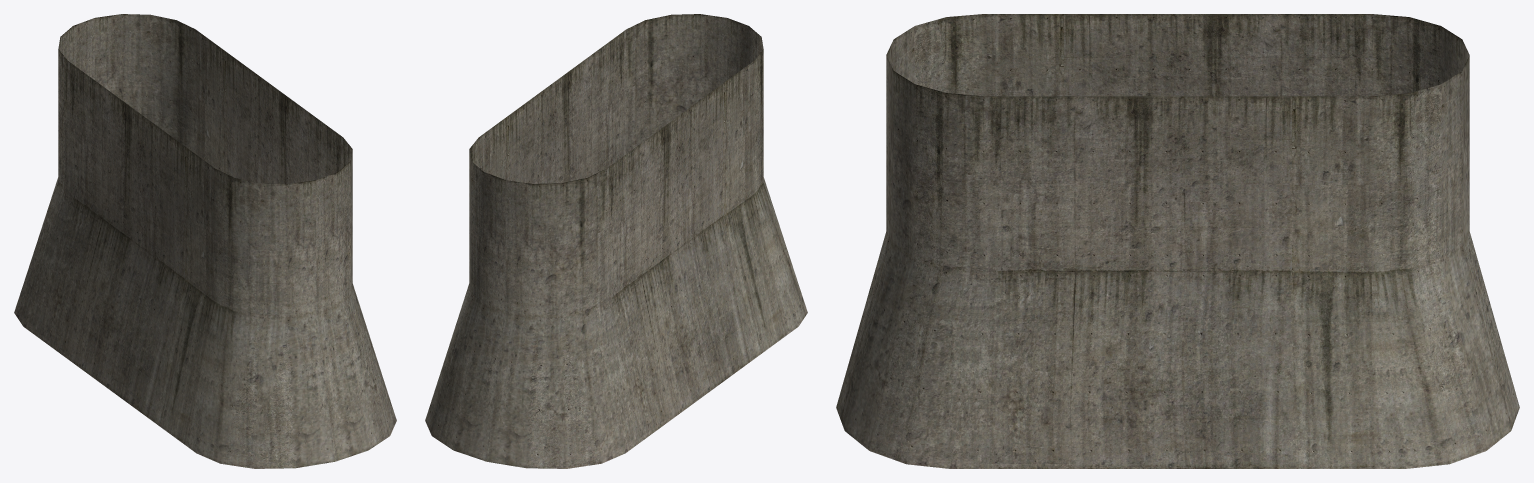
File: concrete_pillar_bottom.dae
The picture shows the model from 3 angles, left to right: view 1: azimuth 30°, elevation 25°; view 2: azimuth 150°, elevation 25°; view 3: azimuth 270°, elevation 25°; orthographic projection. The views are drawn at different scales.
Visible parts, largest first — view 1: polySurface128; view 2: polySurface128; view 3: polySurface128.
Part boxes in pixels (x1,y1,x2,y2): polySurface128: (14, 14, 396, 468); polySurface128: (425, 14, 807, 468); polySurface128: (836, 14, 1519, 468).
Size of the model in its own units: 2.99 by 4 by 7.03.
